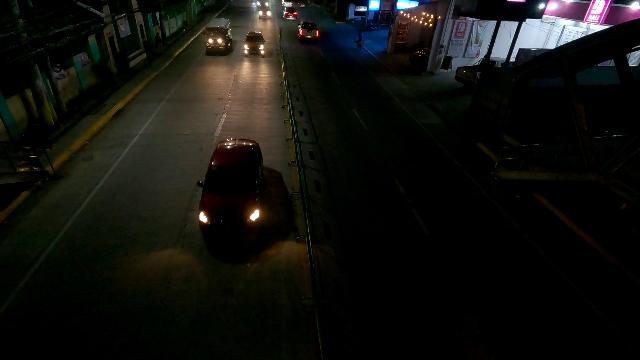car: (193, 135, 268, 246), (242, 30, 265, 58), (257, 7, 272, 19), (255, 0, 271, 9)
jeepney: (202, 18, 233, 56)
truck: (296, 20, 319, 42)
